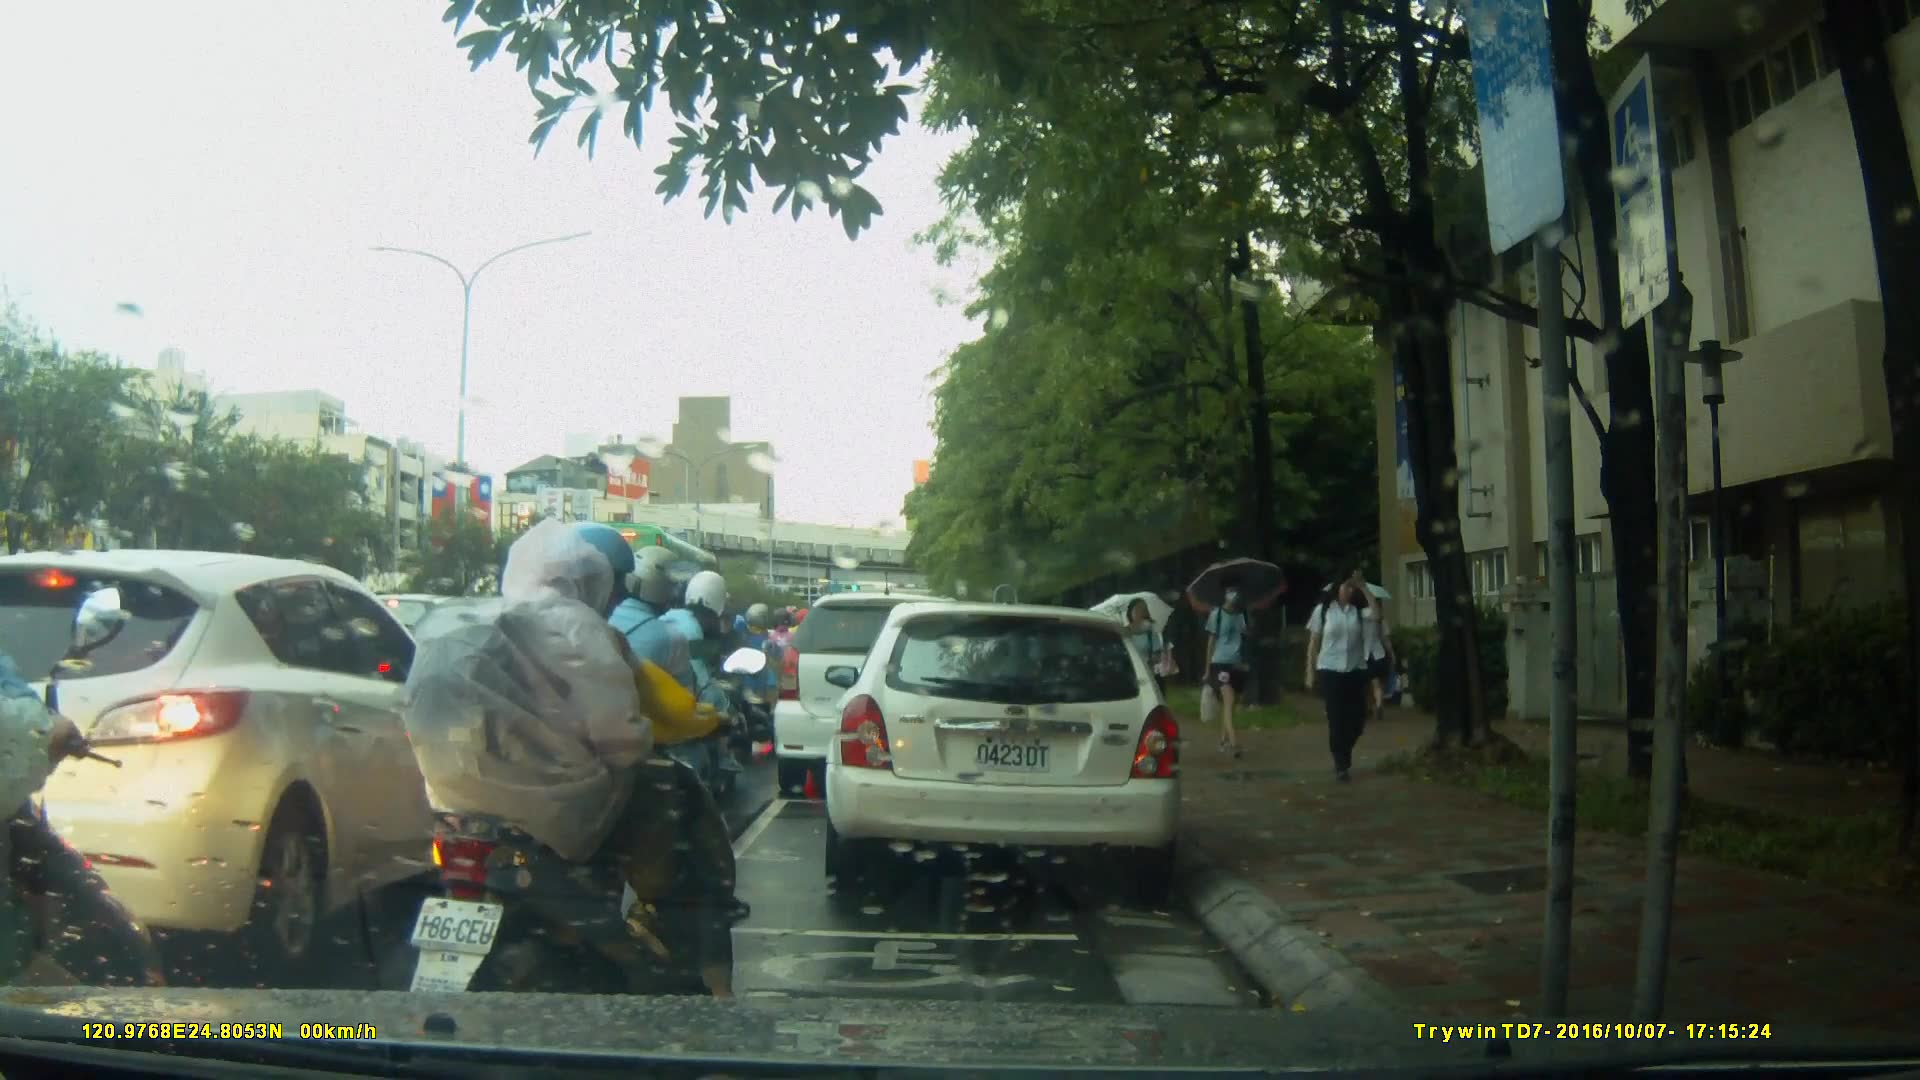pedestrian: (1303, 560, 1385, 788), (1188, 572, 1264, 767), (1112, 599, 1166, 722), (1137, 608, 1174, 732)
rider: (411, 528, 763, 1024), (1, 579, 168, 1073), (568, 547, 720, 879), (631, 575, 755, 853), (719, 601, 792, 753), (756, 605, 809, 753)
vehicle: (1, 546, 519, 977), (822, 604, 1186, 882), (774, 595, 995, 802), (554, 519, 739, 666)
